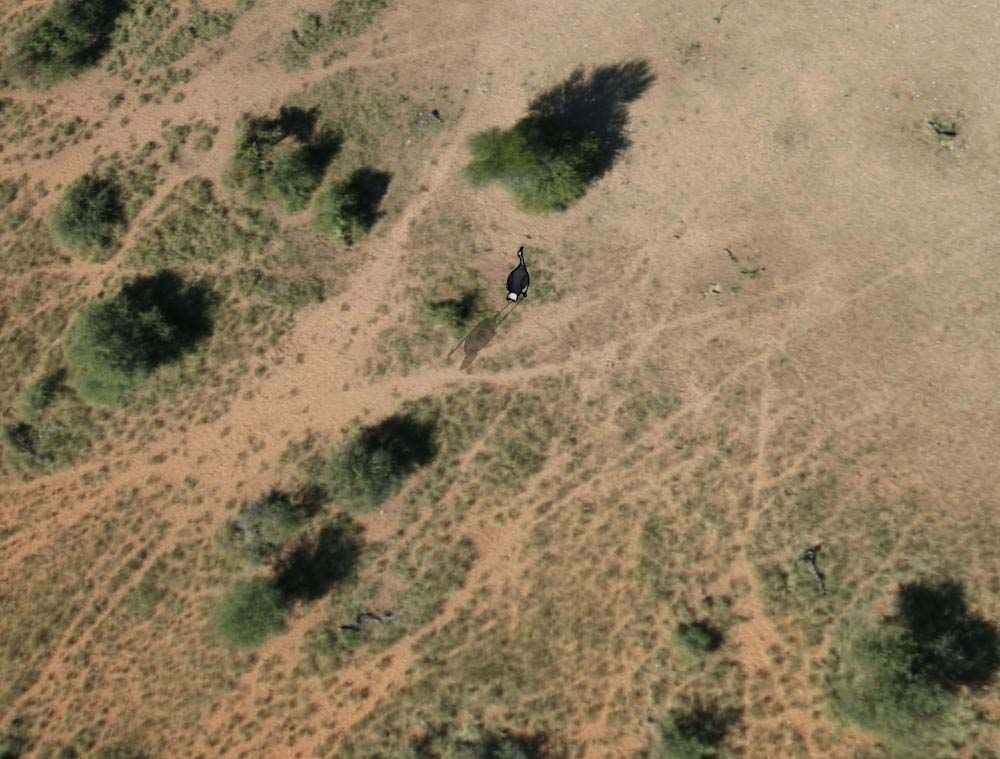ostrich: (503, 241, 537, 302)
